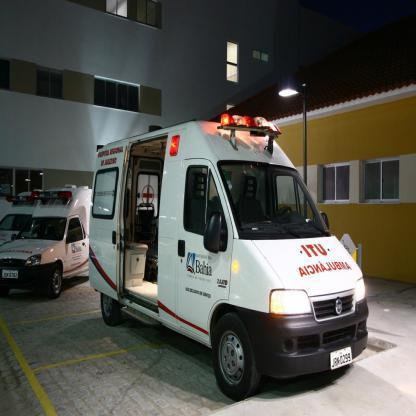Ambulance - v1 Ambulance last generate: (88, 109, 368, 401), (0, 184, 92, 299), (0, 183, 92, 297), (0, 190, 40, 246), (0, 191, 42, 242)
